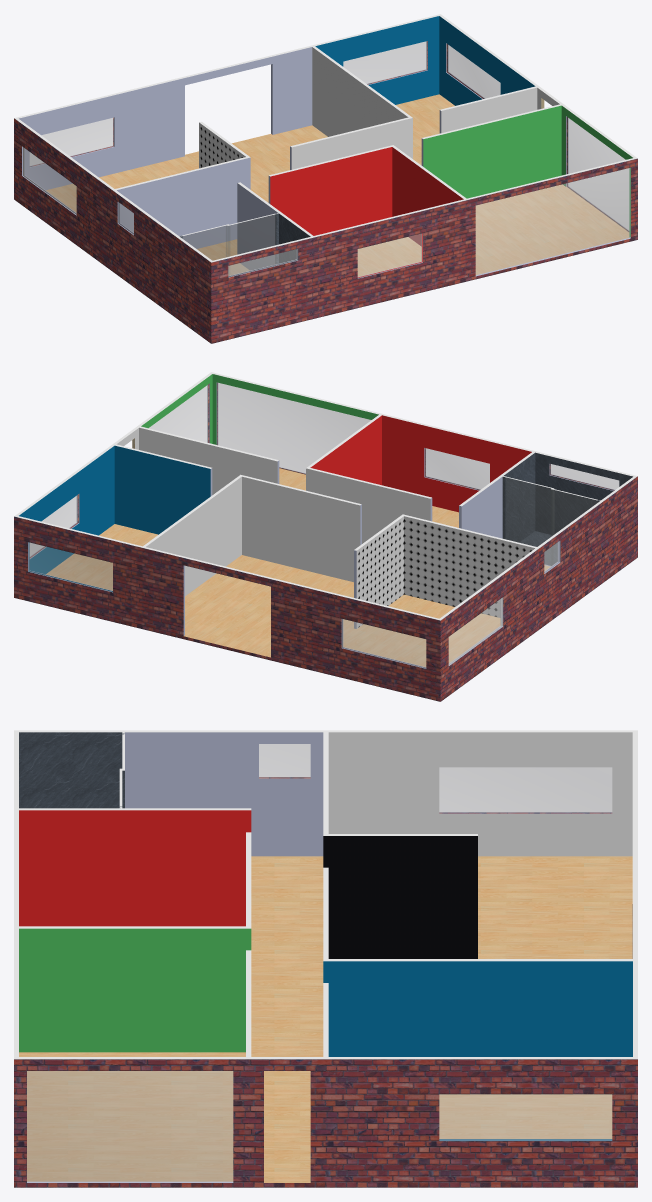
File: house.gltf
The picture shows the model from 3 angles, top to bottom: view 1: azimuth 30°, elevation 25°; view 2: azimuth 150°, elevation 25°; view 3: azimuth 270°, elevation 25°; orthographic projection. The views are drawn at different scales.
Parts seen in each view (by area): view 1: old english brick 2 2d, color, reflective clear glass_clonedChild, reflective clear glass, laminate3 2d, whitesolid, red, green, blue, glass sandblasted 01_clonedChild, glass sandblasted 01, floor tile5-2 (+1 smaller); view 2: old english brick 2 2d, whitesolid, reflective clear glass_clonedChild, reflective clear glass, laminate3 2d, blue, red, floor tile5, slate 2d, glass sandblasted 01_clonedChild, color, glass sandblasted 01 (+2 smaller); view 3: laminate3 2d, old english brick 2 2d, reflective clear glass_clonedChild, reflective clear glass, whitesolid, blue, green, red, slate1, color, slate 2d.
Boxes of the visible parts, x1,y1,x2,y2 form: old english brick 2 2d: (14,41,637,343); color: (19,41,630,278); reflective clear glass_clonedChild: (23,41,630,277); reflective clear glass: (25,42,629,276); laminate3 2d: (46,94,629,276); whitesolid: (14,14,637,262); red: (270,147,463,277); green: (423,105,632,236); blue: (315,16,535,105); glass sandblasted 01_clonedChild: (183,214,277,275); glass sandblasted 01: (183,215,274,259); floor tile5-2: (199,122,245,168); old english brick 2 2d: (14,382,637,701); whitesolid: (14,372,637,665); reflective clear glass_clonedChild: (29,383,618,667); reflective clear glass: (29,383,618,666); laminate3 2d: (46,468,549,666); blue: (19,445,210,591); red: (310,415,531,512); floor tile5: (404,516,534,617); slate 2d: (504,452,632,565); glass sandblasted 01_clonedChild: (503,477,598,565); color: (28,382,614,668); glass sandblasted 01: (507,478,596,563); laminate3 2d: (19,856,632,1182); old english brick 2 2d: (14,777,637,1187); reflective clear glass_clonedChild: (27,744,611,1182); reflective clear glass: (27,744,611,1180); whitesolid: (14,730,637,1059); blue: (323,961,632,1140); green: (19,928,251,1052); red: (19,810,251,926); slate1: (323,836,477,958); color: (27,732,632,1182); slate 2d: (19,732,122,808).
Size of the model in its own units: 15.1 by 2.75 by 12.1.
15 materials, 9 textured.
